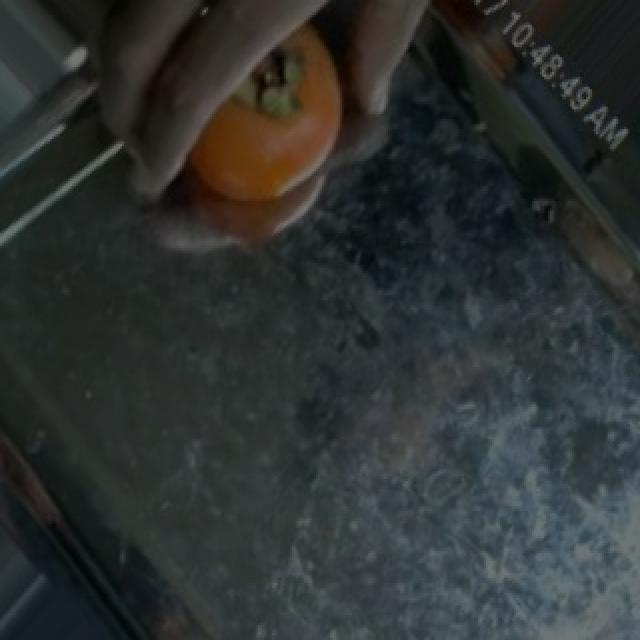Fruit: (164, 2, 378, 224)
